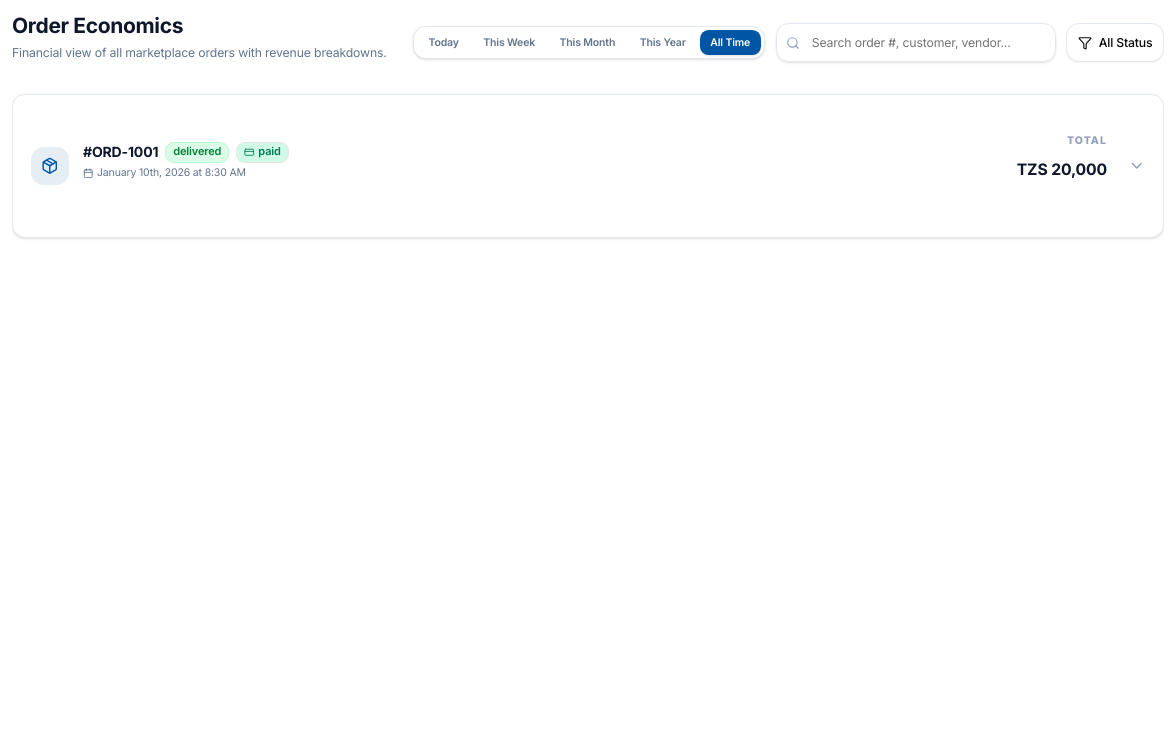
Test: FinanceOrdersTab › expands to show customer, merchant, driver and payment/escrow details on click
Step 1. Click the text "#ORD-1001" → click(121, 152), box [83,142,158,162]
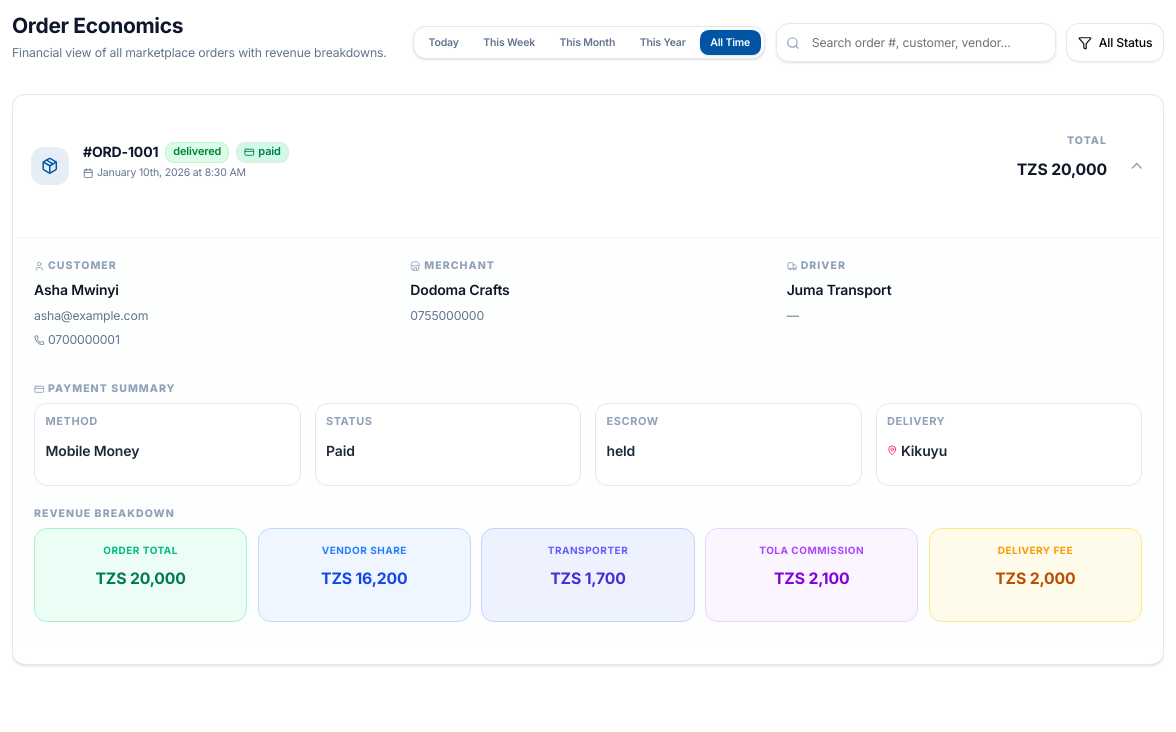
Now the text "Asha Mwinyi" is shown, box [34,281,119,298]
Now the text "asha@example.com" is shown, box [34,308,148,323]
Now the text "Dodoma Crafts" is shown, box [410,281,510,298]
